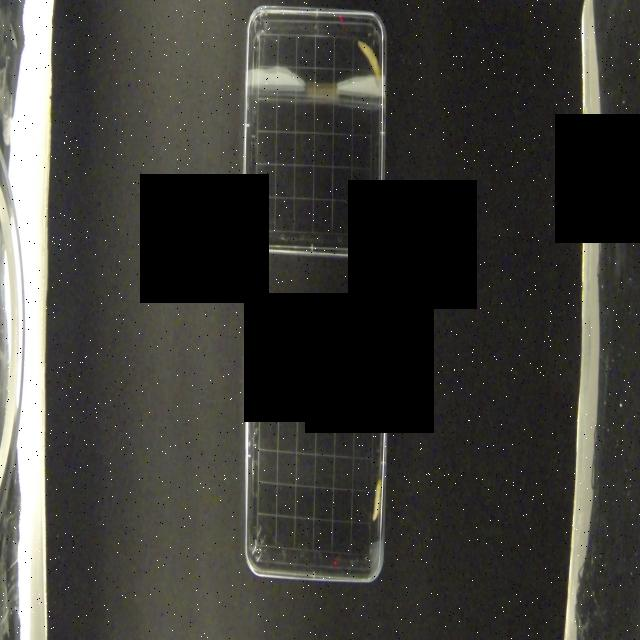larva: (358, 38, 383, 87), (368, 476, 386, 522)
